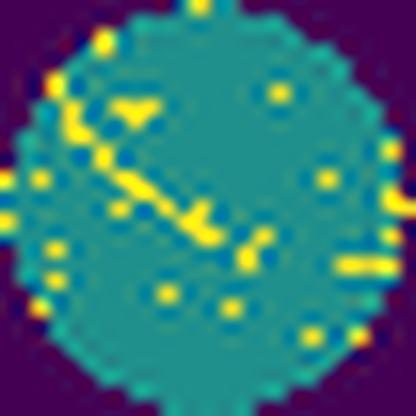Scratch: (44, 71, 230, 253)
